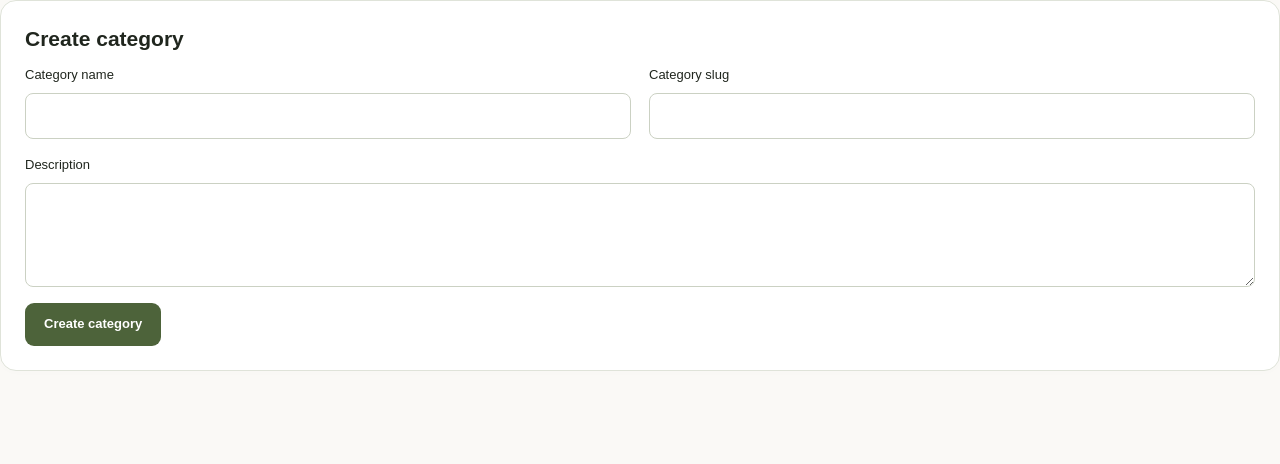
Scenario: refreshes public and vendor category choices after a real category mutation
The width and height of the screenshot is (1280, 464).
Type "Home" into the field labelled "Category name".
click(328, 116); type("Home")  # box [25, 93, 631, 139]
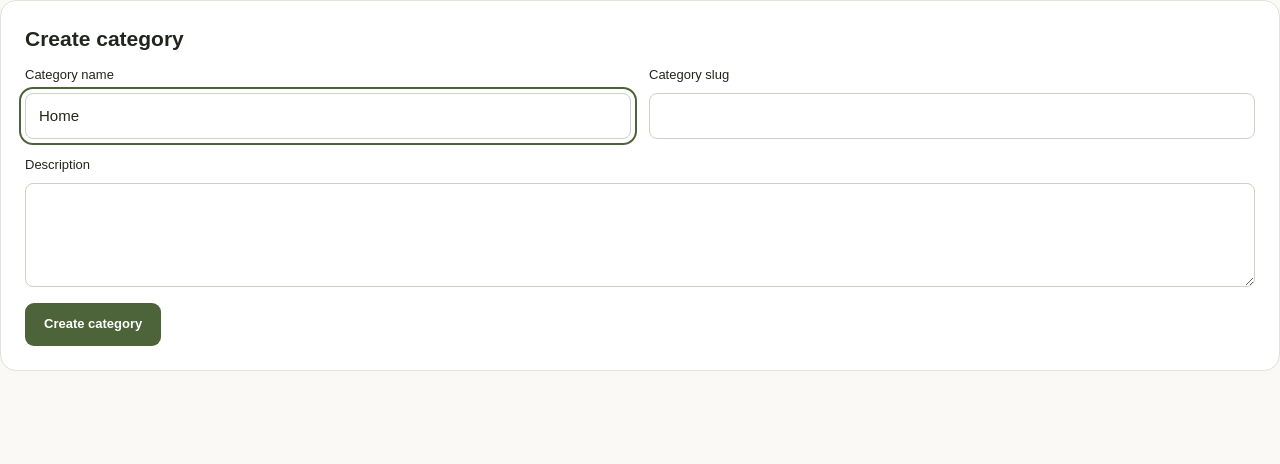
Type "home" into the field labelled "Category slug".
click(952, 116); type("home")  # box [649, 93, 1255, 139]
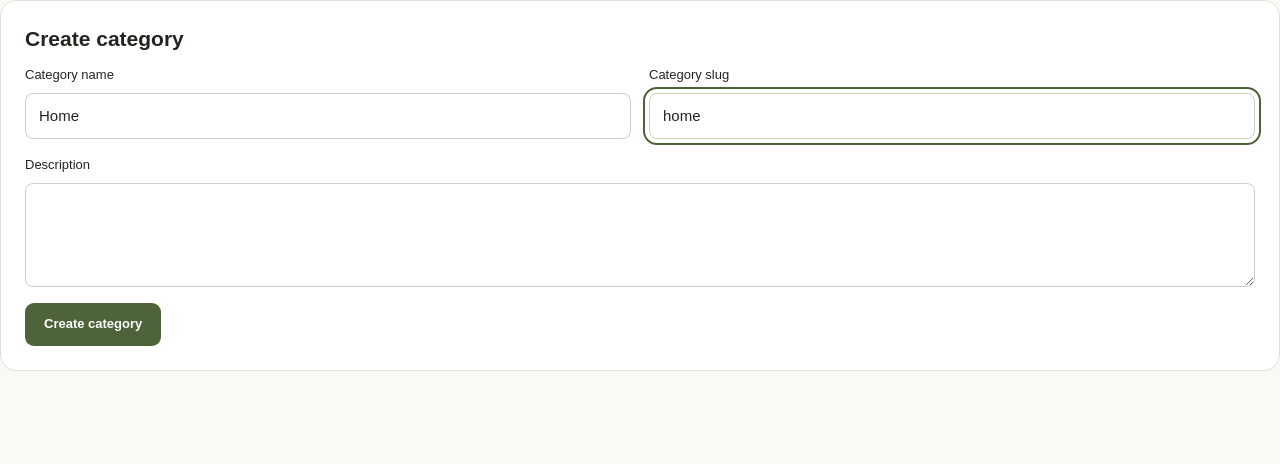
Click the button "Create category".
click(93, 324)  # box [25, 303, 161, 346]
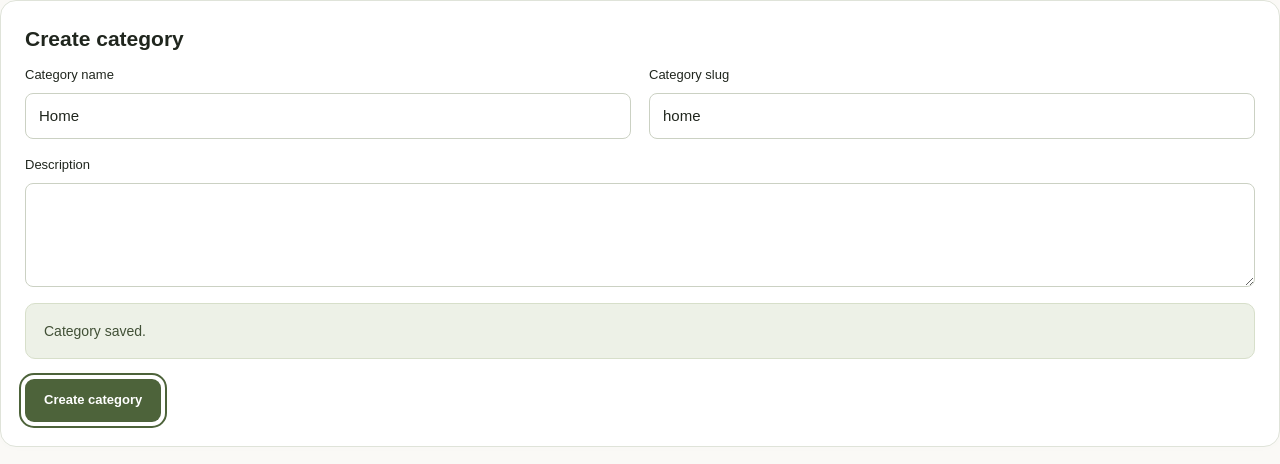
Check: the text "Category saved." is shown, box [25, 303, 1255, 359]
